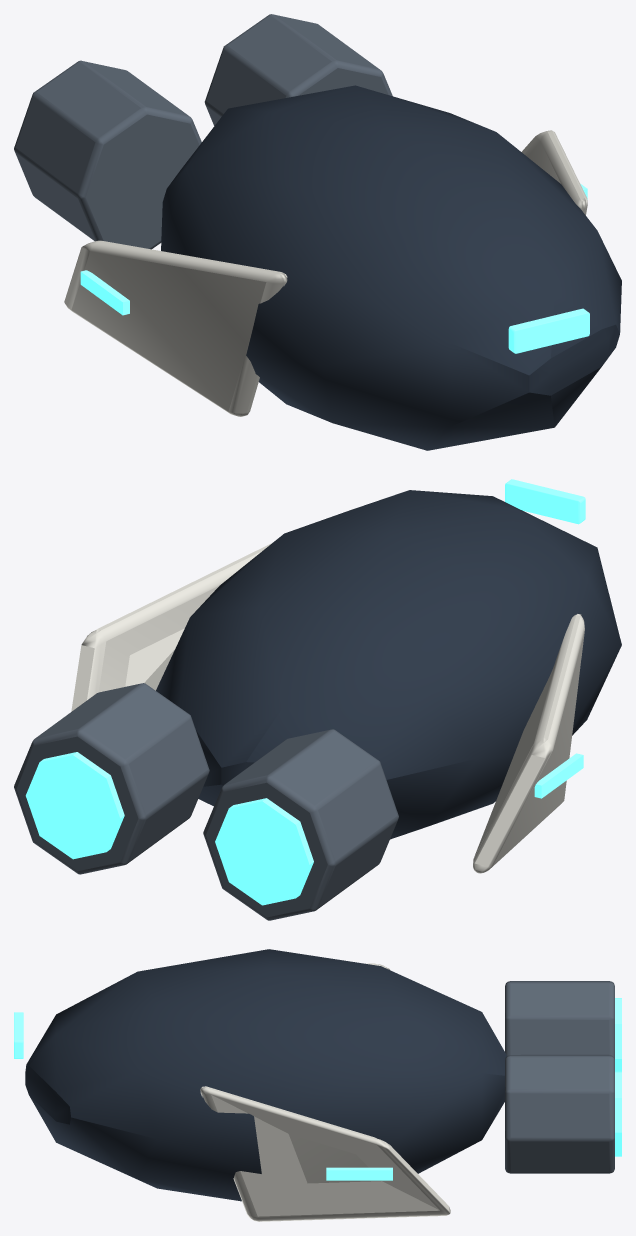
The model's file is job_drone.glb.
3 renders of one model, top to bottom at view 1: azimuth 30°, elevation 25°; view 2: azimuth 150°, elevation 25°; view 3: azimuth 270°, elevation 25°, orthographic. The views are drawn at different scales.
Parts seen in each view (by area): view 1: job_drone__body, job_drone__thruster, job_drone__ivory_wing, job_drone__thruster__02, job_drone__sensor, job_drone__ivory_wing__02, job_drone__wing_emissive; view 2: job_drone__body, job_drone__thruster__02, job_drone__thruster, job_drone__ivory_wing, job_drone__ivory_wing__02, job_drone__thruster_emissive, job_drone__thruster_emissive__02, job_drone__sensor, job_drone__wing_emissive; view 3: job_drone__body, job_drone__ivory_wing__02, job_drone__thruster__02, job_drone__thruster, job_drone__wing_emissive__02, job_drone__thruster_emissive__02, job_drone__thruster_emissive, job_drone__sensor.
Part boxes in pixels (x1,y1,x2,y2): job_drone__body: (161,85,621,450); job_drone__thruster: (14,60,201,249); job_drone__ivory_wing: (64,240,287,416); job_drone__thruster__02: (204,14,392,125); job_drone__sensor: (508,308,589,353); job_drone__ivory_wing__02: (521,130,587,215); job_drone__wing_emissive: (80,270,129,315); job_drone__body: (156,490,621,839); job_drone__thruster__02: (14,683,209,874); job_drone__thruster: (203,729,398,920); job_drone__ivory_wing: (473,614,584,873); job_drone__ivory_wing__02: (71,543,271,711); job_drone__thruster_emissive: (215,798,313,905); job_drone__thruster_emissive__02: (25,752,124,859); job_drone__sensor: (505,479,585,524); job_drone__wing_emissive: (534,753,583,798); job_drone__body: (25,949,506,1201); job_drone__ivory_wing__02: (200,1086,450,1221); job_drone__thruster__02: (505,1054,614,1173); job_drone__thruster: (505,981,614,1058); job_drone__wing_emissive__02: (326,1167,392,1180); job_drone__thruster_emissive__02: (615,1071,621,1156); job_drone__thruster_emissive: (615,998,621,1071); job_drone__sensor: (14,1012,23,1058).
Size of the model in its own units: 0.986 by 0.55 by 1.4.
